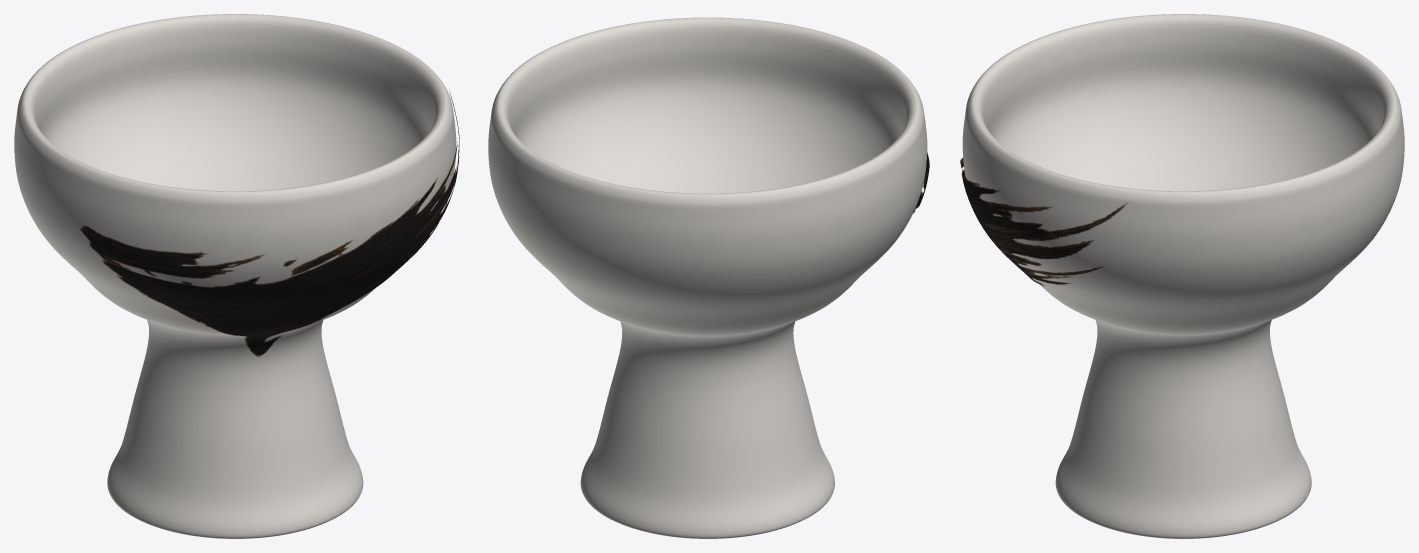
File: sori-series-guiyal.glb
3 renders of one model, left to right at view 1: azimuth 30°, elevation 25°; view 2: azimuth 150°, elevation 25°; view 3: azimuth 270°, elevation 25°, orthographic.
Visible parts, largest first — view 1: GUIYAL Sori, Guiyal original brush texture; view 2: GUIYAL Sori; view 3: GUIYAL Sori, Guiyal original brush texture.
Boxes of the visible parts, bbox=[...] form: GUIYAL Sori: bbox=[14, 14, 456, 538]; Guiyal original brush texture: bbox=[79, 92, 459, 356]; GUIYAL Sori: bbox=[488, 17, 927, 538]; GUIYAL Sori: bbox=[962, 14, 1404, 538]; Guiyal original brush texture: bbox=[960, 157, 1127, 286].
Size of the model in its own units: 1.83 by 1.8 by 1.85.
Materials: 2 (1 with a texture image).
